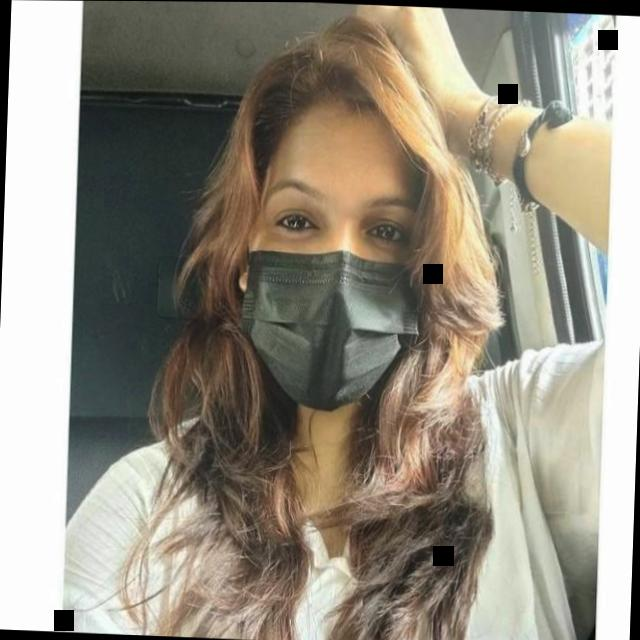Mask: (239, 131, 422, 414)
